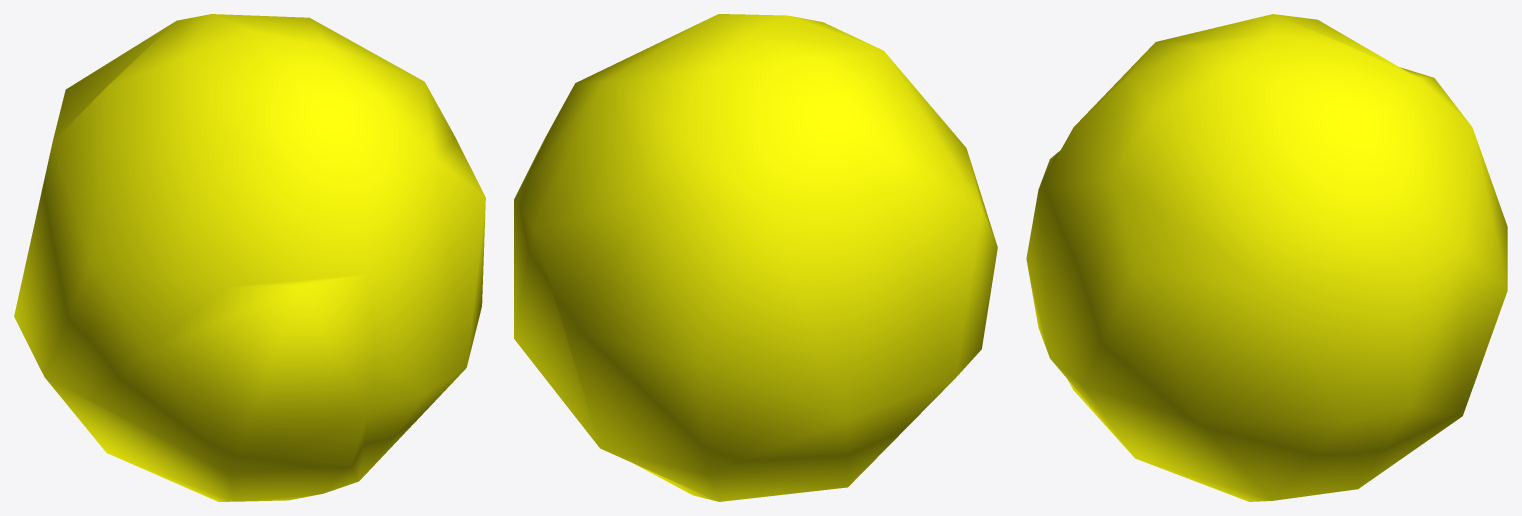
File: fireball_low.glb
3 renders of one model, left to right at view 1: azimuth 30°, elevation 25°; view 2: azimuth 150°, elevation 25°; view 3: azimuth 270°, elevation 25°, orthographic.
Visible parts, largest first — view 1: Fireball; view 2: Fireball; view 3: Fireball.
Boxes of the visible parts, x1=… form: Fireball: x1=14, y1=14, x2=485, y2=501; Fireball: x1=514, y1=14, x2=997, y2=501; Fireball: x1=1026, y1=14, x2=1507, y2=501.
Size of the model in its own units: 0.7553 by 0.7941 by 0.7747.
1 material, 1 textured.
